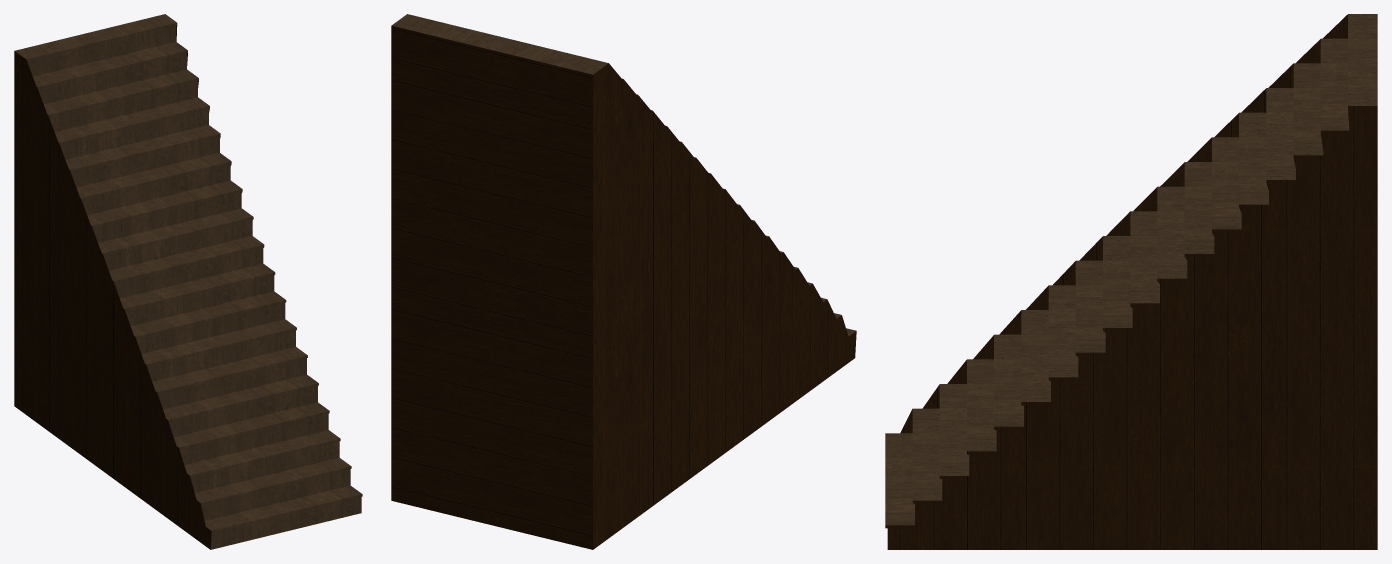
File: MerdivenMain.fbx
The picture shows the model from 3 angles, left to right: view 1: azimuth 30°, elevation 25°; view 2: azimuth 150°, elevation 25°; view 3: azimuth 270°, elevation 25°; orthographic projection. The views are drawn at different scales.
Visible parts, largest first — view 1: Plane; view 2: Plane; view 3: Plane.
Part boxes in pixels (x1,y1,x2,y2): Plane: (14,14,362,549); Plane: (391,14,856,549); Plane: (885,14,1377,549).
Bounding box in the file's own units: 133 × 300 × 301.
Materials: 2 (2 with a texture image).
